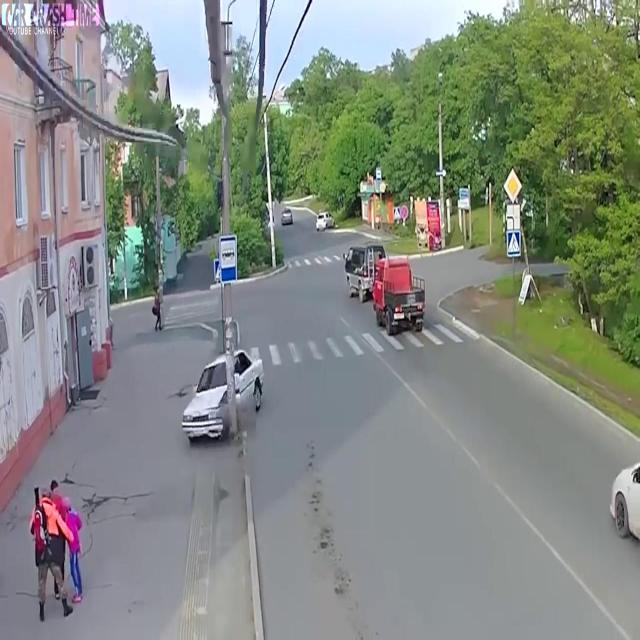accident: (185, 329, 274, 458)
non_accident: (344, 230, 440, 350)
